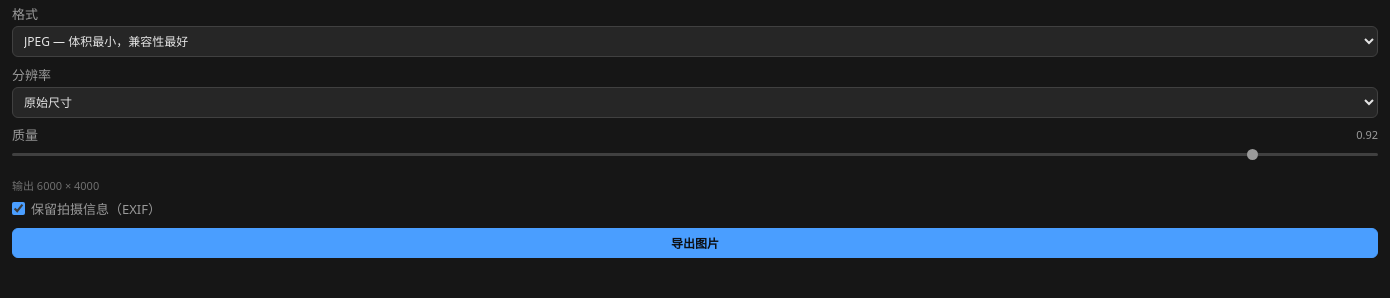
Scenario: ExportPanel 的 EXIF 保留 › 来源里没有拍摄信息时如实说明，不静默丢掉
Click the button "导出图片" at (695, 243), box [12, 228, 1378, 258]
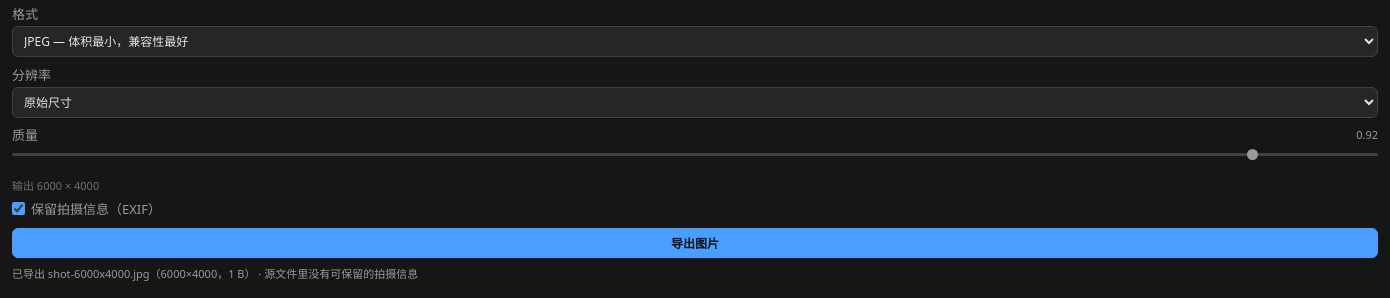
Expected: the text "已导出 shot-6000x4000.jpg（6000×4000，1 B） · 源文件里没有可保留的拍摄信息" is shown, [12, 266, 418, 281]
